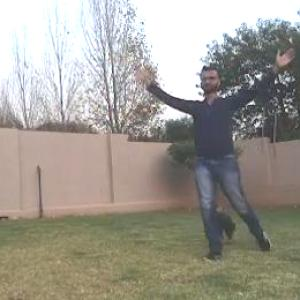takeoff: (156, 68, 295, 262)
